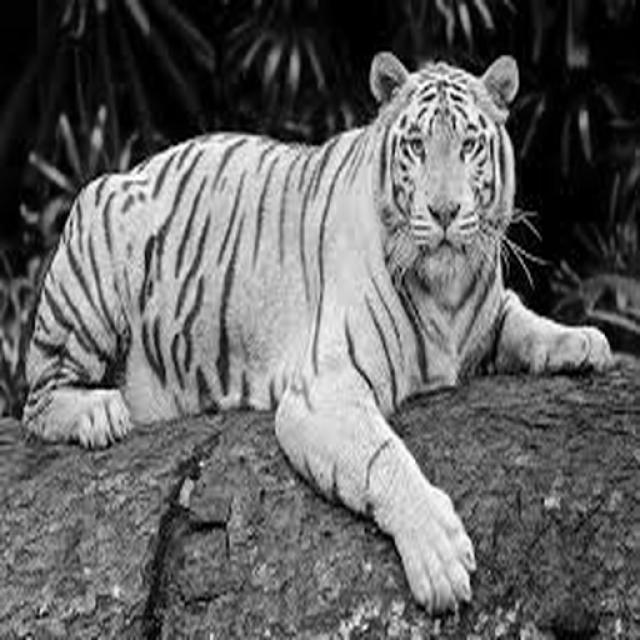Tiger: (19, 48, 614, 618)
